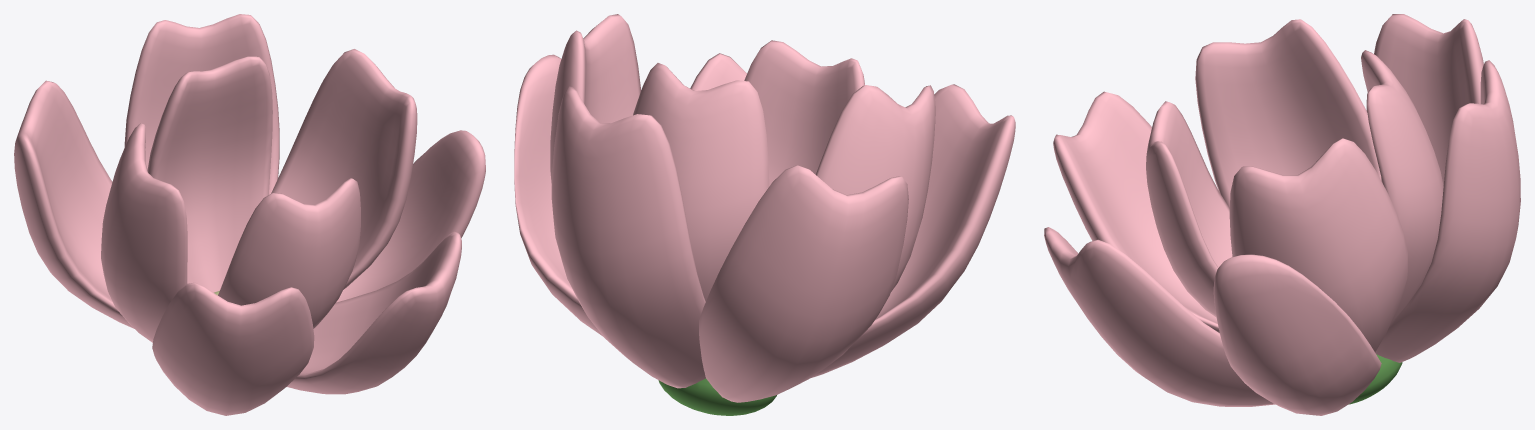
The picture shows the model from 3 angles, left to right: view 1: azimuth 30°, elevation 25°; view 2: azimuth 150°, elevation 25°; view 3: azimuth 270°, elevation 25°; orthographic projection. The views are drawn at different scales.
Parts seen in each view (by area): view 1: 平面.008, 平面.007, 平面.004, 平面.002, 平面.006, 平面.005, 平面.003, 平面.009, 平面; view 2: 平面.002, 平面, 平面.004, 平面.008, 平面.003, 平面.005, 平面.009, 平面.007, 球体, 平面.006; view 3: 平面.007, 平面.003, 平面, 平面.009, 平面.006, 平面.004, 平面.005, 平面.008, 平面.002, 球体.
Part boxes in pixels (x1=…): 平面.008: x1=147, y1=56, x2=272, y2=292; 平面.007: x1=271, y1=49, x2=417, y2=289; 平面.004: x1=152, y1=282, x2=314, y2=415; 平面.002: x1=14, y1=80, x2=134, y2=328; 平面.006: x1=287, y1=231, x2=461, y2=394; 平面.005: x1=218, y1=178, x2=360, y2=328; 平面.003: x1=101, y1=123, x2=187, y2=342; 平面.009: x1=336, y1=130, x2=485, y2=302; 平面: x1=124, y1=14, x2=279, y2=194; 平面.002: x1=699, y1=165, x2=908, y2=402; 平面: x1=551, y1=86, x2=705, y2=388; 平面.004: x1=810, y1=84, x2=1015, y2=378; 平面.008: x1=633, y1=63, x2=769, y2=301; 平面.003: x1=816, y1=85, x2=935, y2=291; 平面.005: x1=744, y1=40, x2=864, y2=186; 平面.009: x1=514, y1=54, x2=603, y2=336; 平面.007: x1=550, y1=14, x2=641, y2=185; 球体: x1=658, y1=378, x2=776, y2=415; 平面.006: x1=690, y1=53, x2=746, y2=90; 平面.007: x1=1229, y1=138, x2=1407, y2=352; 平面.003: x1=1195, y1=19, x2=1381, y2=207; 平面: x1=1375, y1=60, x2=1520, y2=362; 平面.009: x1=1213, y1=254, x2=1381, y2=415; 平面.006: x1=1044, y1=227, x2=1275, y2=406; 平面.004: x1=1053, y1=91, x2=1219, y2=333; 平面.005: x1=1146, y1=101, x2=1232, y2=317; 平面.008: x1=1361, y1=50, x2=1443, y2=322; 平面.002: x1=1366, y1=14, x2=1483, y2=185; 球体: x1=1349, y1=354, x2=1402, y2=404.
Bounding box in the file's own units: 3.06 × 2.34 × 3.01.
